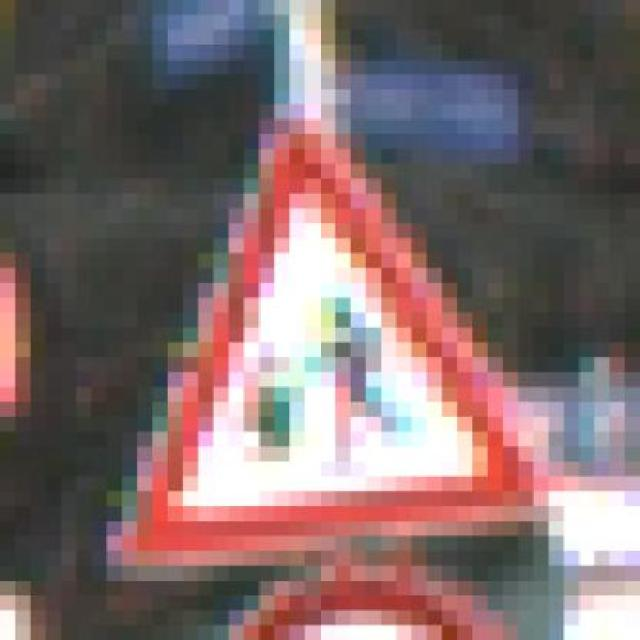Beware of children: (76, 104, 564, 565)
